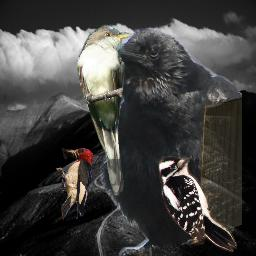Crow: (97, 27, 242, 256)
Cuckoo: (77, 26, 132, 197)
Woodpecker: (158, 156, 237, 254), (56, 148, 93, 220)
